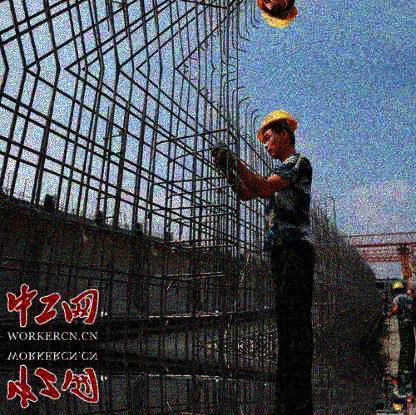helmet: (256, 108, 299, 159), (260, 1, 300, 30), (392, 282, 405, 293), (394, 399, 404, 409)
